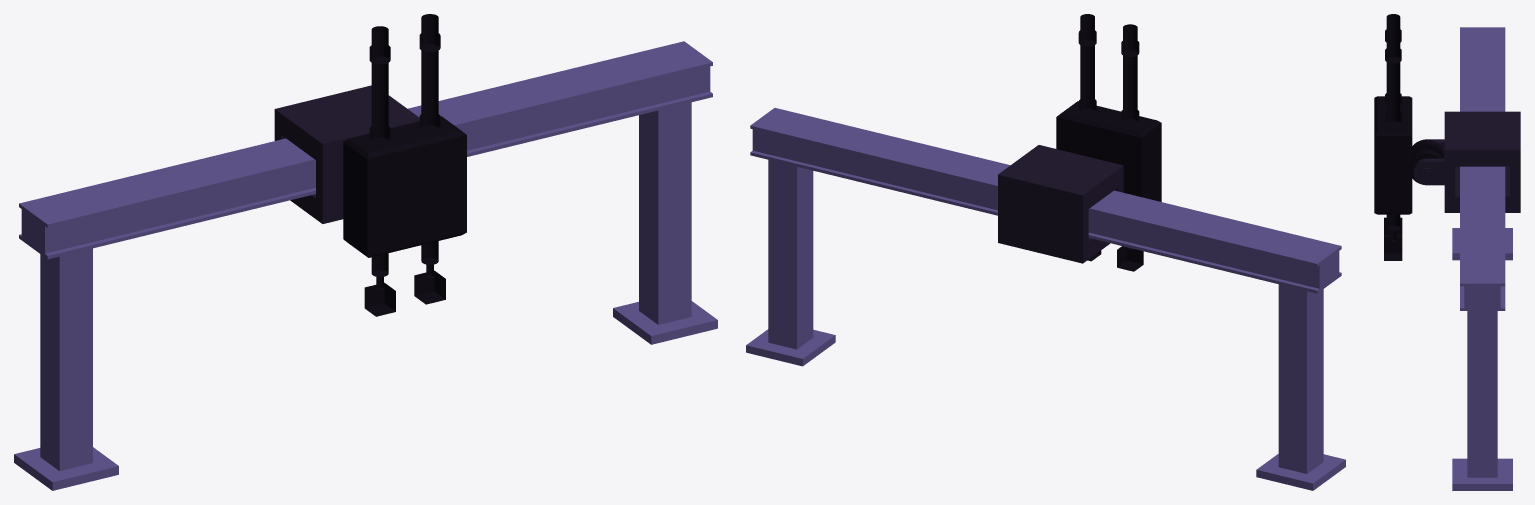
Rendered from Lab3_V10_M20C.obj.
3 views of the same model, side by side, from view 1: azimuth 30°, elevation 25°; view 2: azimuth 150°, elevation 25°; view 3: azimuth 270°, elevation 25° (orthographic). The views are drawn at different scales.
Parts seen in each view (by area): view 1: Beam_Cube.002, ManipulatorBox_Cylinder.015, Carriage_Cube.007, Arms_Cylinder.001; view 2: Beam_Cube.002, Carriage_Cube.007, ManipulatorBox_Cylinder.015, Arms_Cylinder.001; view 3: Beam_Cube.002, Carriage_Cube.007, ManipulatorBox_Cylinder.015, Arms_Cylinder.001.
Boxes of the visible parts, <box> form: Beam_Cube.002: <box>14,41,717,490</box>; ManipulatorBox_Cylinder.015: <box>343,114,466,257</box>; Carriage_Cube.007: <box>274,85,419,223</box>; Arms_Cylinder.001: <box>364,14,445,316</box>; Beam_Cube.002: <box>746,108,1345,490</box>; Carriage_Cube.007: <box>998,145,1123,263</box>; ManipulatorBox_Cylinder.015: <box>1056,99,1161,201</box>; Arms_Cylinder.001: <box>1078,14,1143,271</box>; Beam_Cube.002: <box>1452,27,1512,490</box>; Carriage_Cube.007: <box>1413,111,1520,212</box>; ManipulatorBox_Cylinder.015: <box>1374,93,1443,214</box>; Arms_Cylinder.001: <box>1384,14,1402,260</box>.
Bounding box in the file's own units: 4 × 2.4 × 0.9635.
